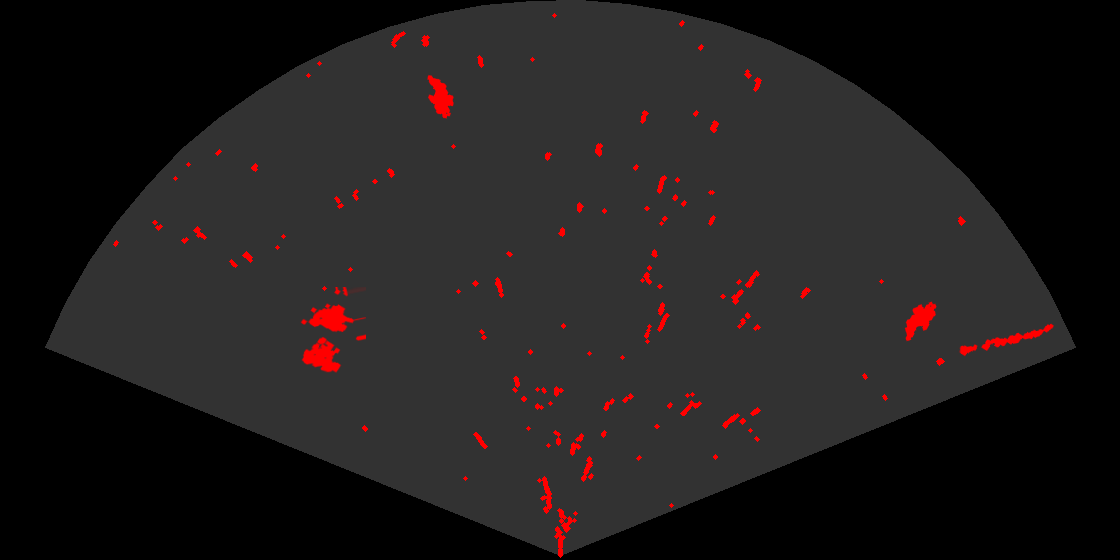AUV: (903, 300, 938, 343), (426, 74, 455, 120)
cage: (299, 287, 366, 374)
chain: (957, 322, 1055, 358)
